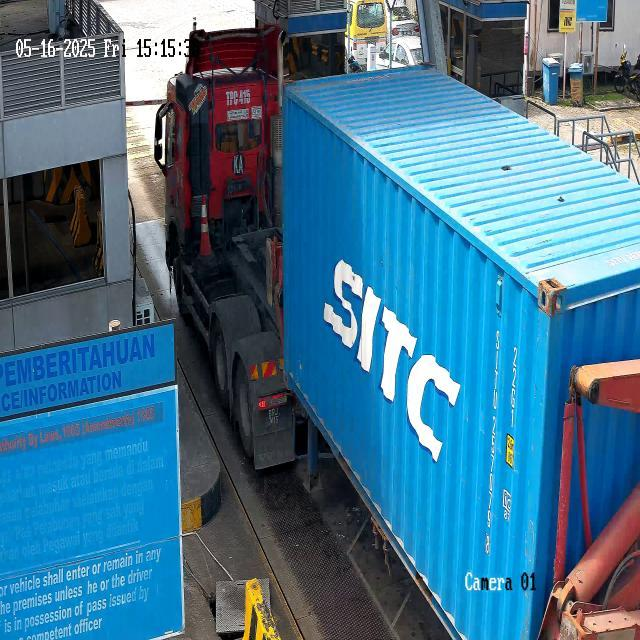ISO: (508, 342, 520, 432)
container_number: (478, 323, 502, 562)
